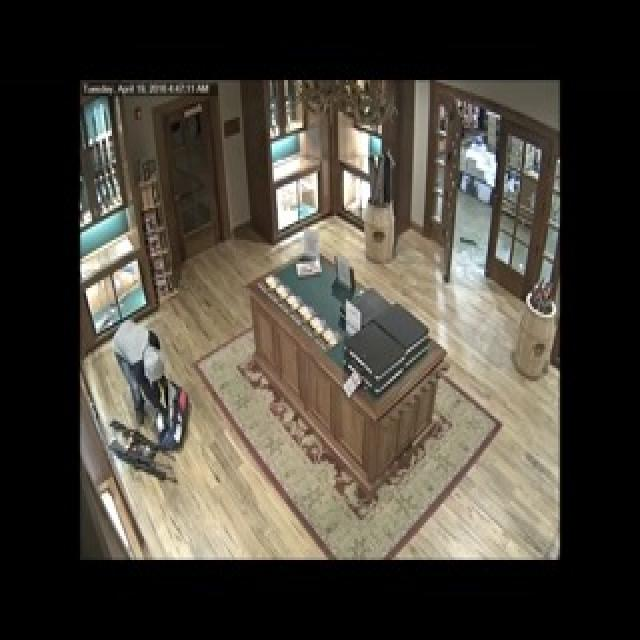thief: (108, 328, 184, 446)
